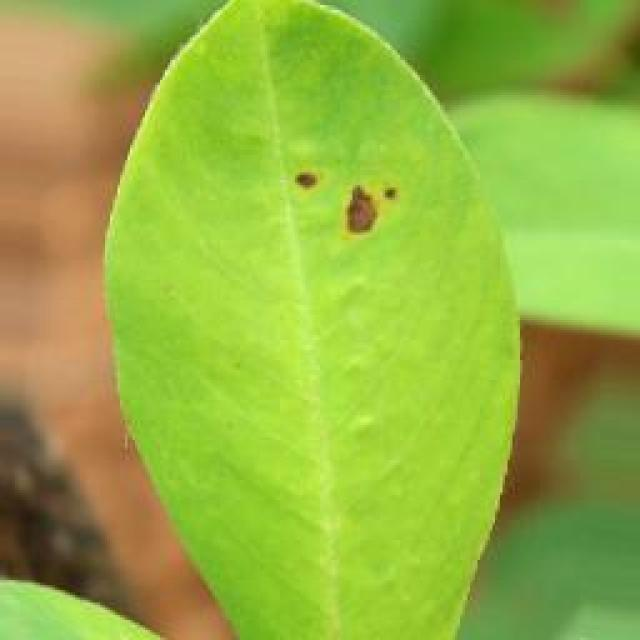Sigatoka: (281, 146, 424, 248)
